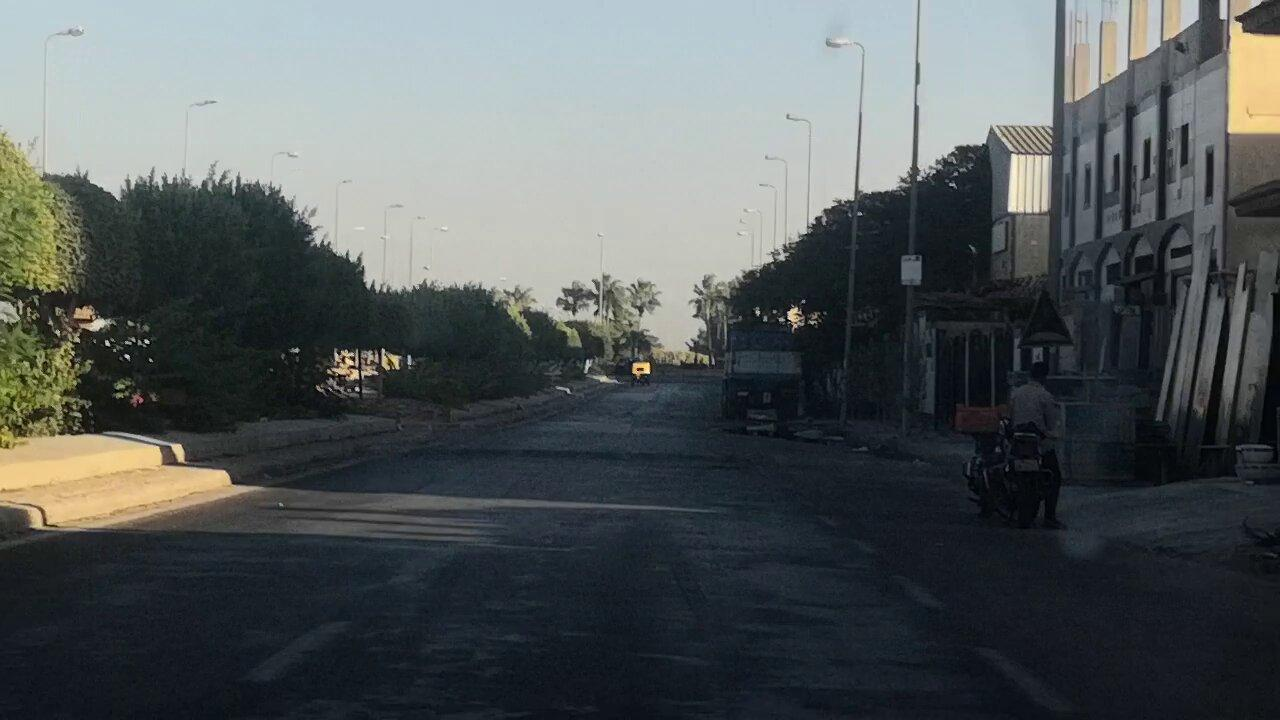Bump: (405, 440, 768, 465)
